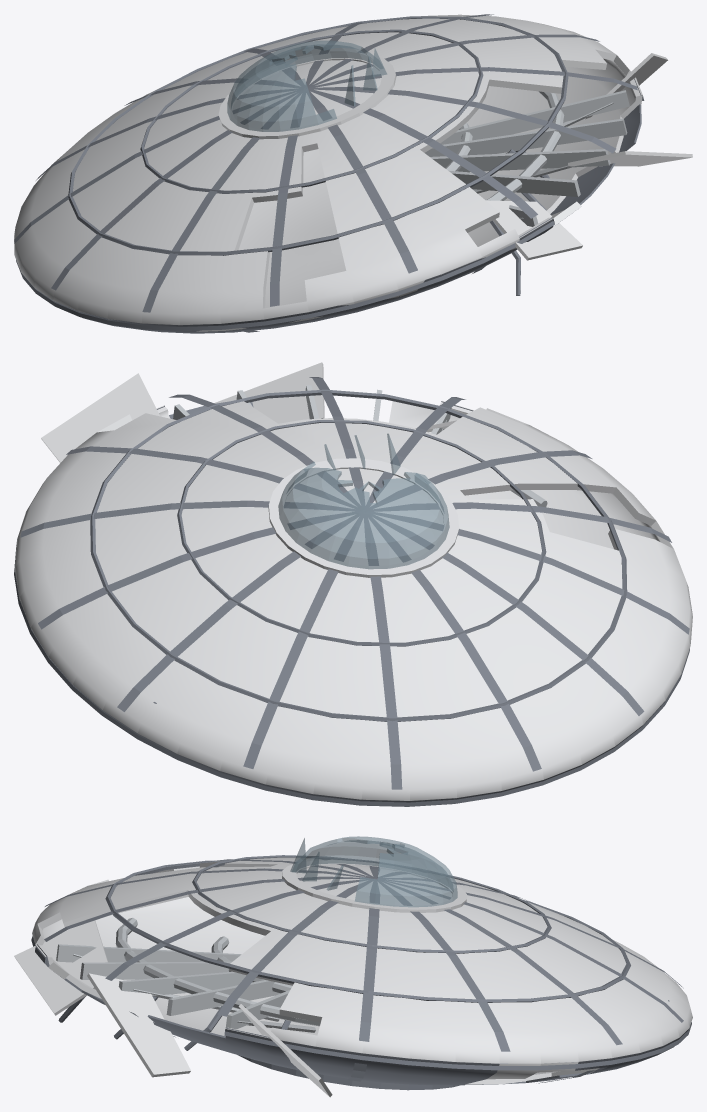
File: ufo-crash-site-and-recovery-facility-scout-disc-damage-3ffbb4c0__17326.glb
3 renders of one model, top to bottom at view 1: azimuth 30°, elevation 25°; view 2: azimuth 150°, elevation 25°; view 3: azimuth 270°, elevation 25°, orthographic. The views are drawn at different scales.
Visible parts, largest first — view 1: scout-disc-damaged; view 2: scout-disc-damaged; view 3: scout-disc-damaged.
Part boxes in pixels (box(x1,y1,x2,y2)): scout-disc-damaged: box(14, 14, 692, 333); scout-disc-damaged: box(14, 362, 692, 806); scout-disc-damaged: box(14, 836, 692, 1097).
Size of the model in its own units: 6.76 by 2.5 by 6.52.
